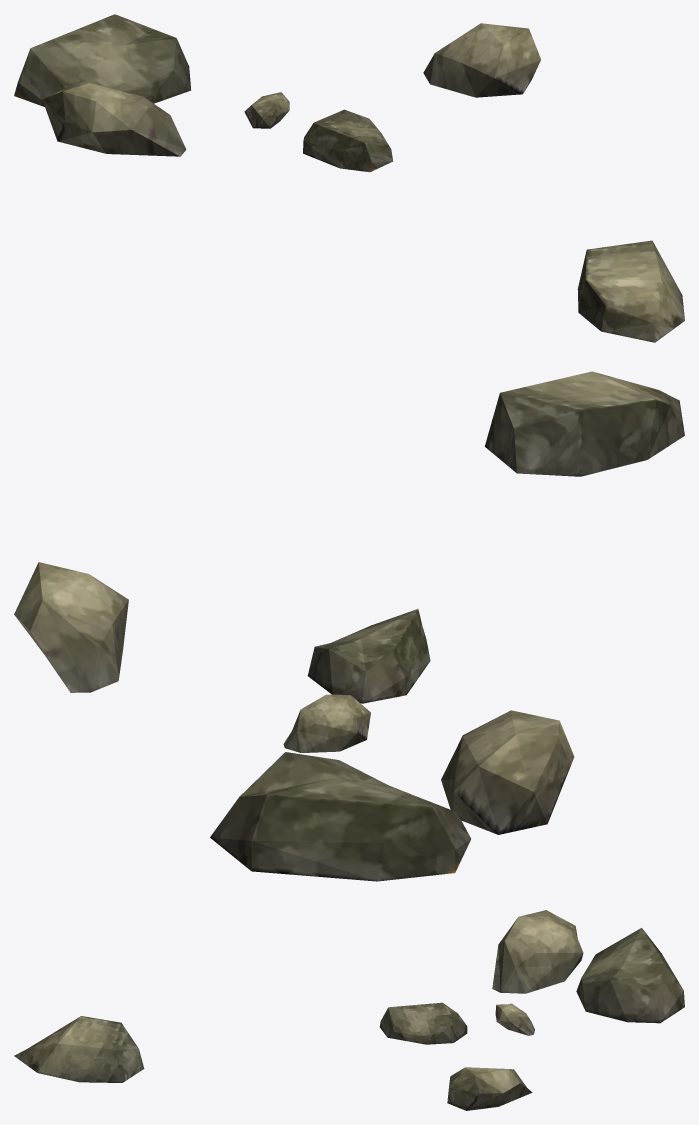
The model's file is GreenRuins06a.FBX.
3 renders of one model, top to bottom at view 1: azimuth 30°, elevation 25°; view 2: azimuth 150°, elevation 25°; view 3: azimuth 270°, elevation 25°, orthographic. The views are drawn at different scales.
Parts seen in each view (by area): view 1: GreenRuins06a; view 2: GreenRuins06a; view 3: GreenRuins06a.
Boxes of the visible parts, bbox=[...] form: GreenRuins06a: bbox=[14, 14, 684, 342]; GreenRuins06a: bbox=[14, 371, 684, 881]; GreenRuins06a: bbox=[14, 910, 684, 1110].
Size of the model in its own units: 94.16 by 13.5 by 165.
Materials: 1 (1 with a texture image).
